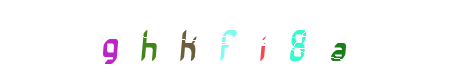8: (205, 0, 285, 80)
A: (258, 0, 338, 80)
F: (193, 0, 273, 80)
G: (95, 0, 175, 80)
H: (153, 0, 233, 80)
I: (200, 0, 280, 80)
K: (158, 0, 238, 80)
